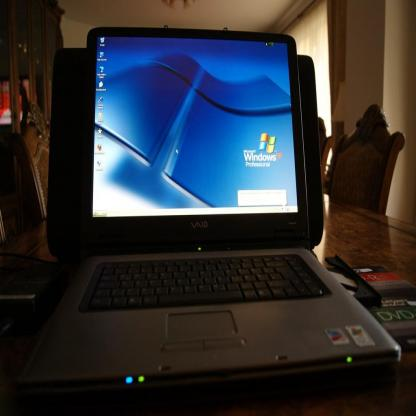board: (37, 19, 377, 393)
